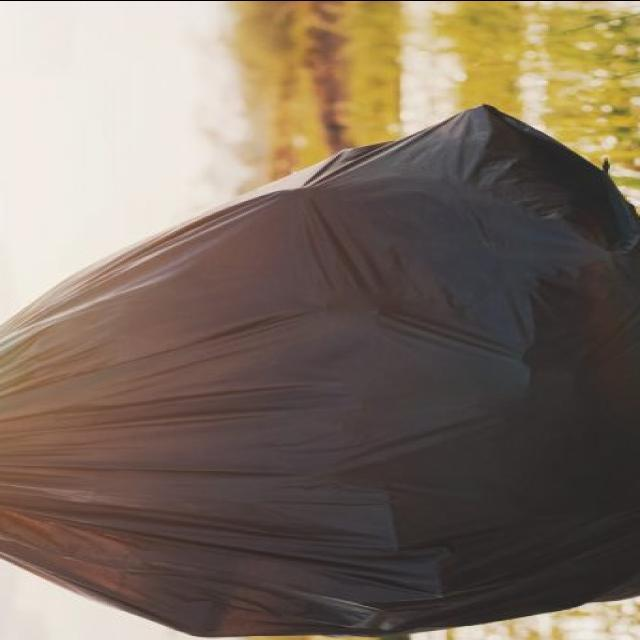Trashbag: (4, 98, 638, 626)
